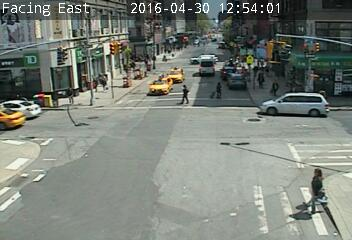pos: (299, 165, 339, 217), (173, 81, 192, 107), (211, 78, 228, 101), (61, 84, 78, 107), (254, 69, 270, 91), (267, 78, 283, 98), (98, 72, 111, 90)
